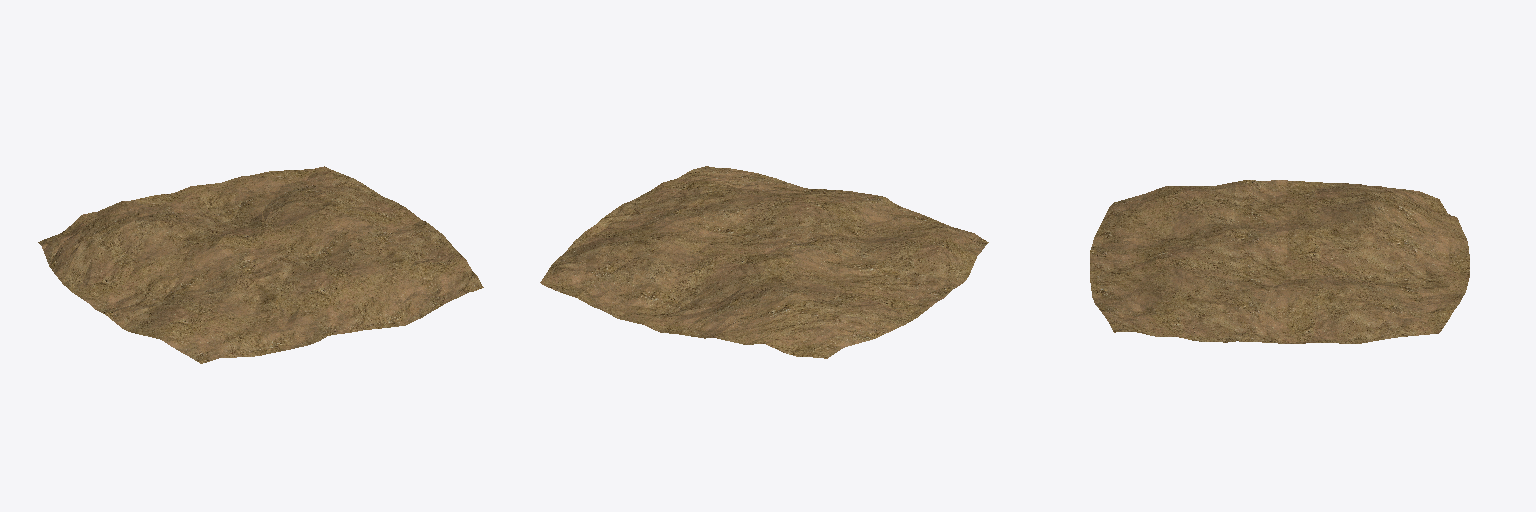
The picture shows the model from 3 angles: view 1: azimuth 30°, elevation 25°; view 2: azimuth 150°, elevation 25°; view 3: azimuth 270°, elevation 25°; orthographic projection.
Parts seen in each view (by area): view 1: Plane001; view 2: Plane001; view 3: Plane001.
Part boxes in pixels (left/top/right/bottom): Plane001: left=38, top=166, right=483, bottom=363; Plane001: left=540, top=166, right=988, bottom=358; Plane001: left=1090, top=180, right=1469, bottom=343.
Bounding box in the file's own units: 12.72 × 1.06 × 12.48.
Materials: 1 (1 with a texture image).